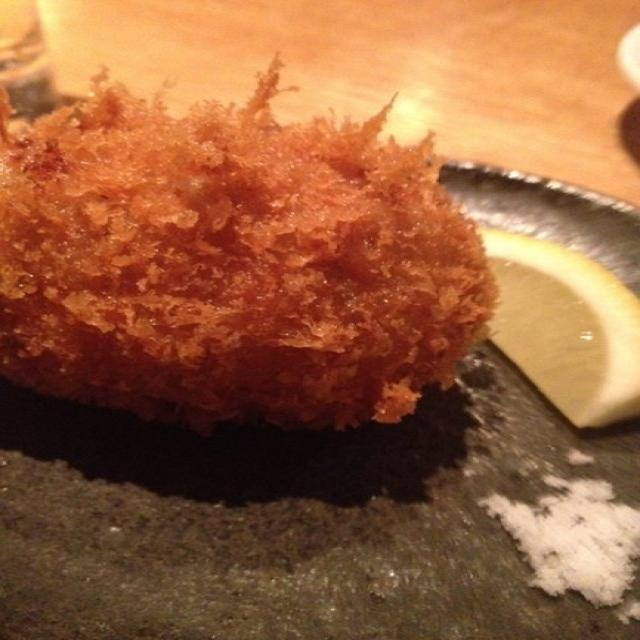炸货点心: (3, 50, 500, 464)
